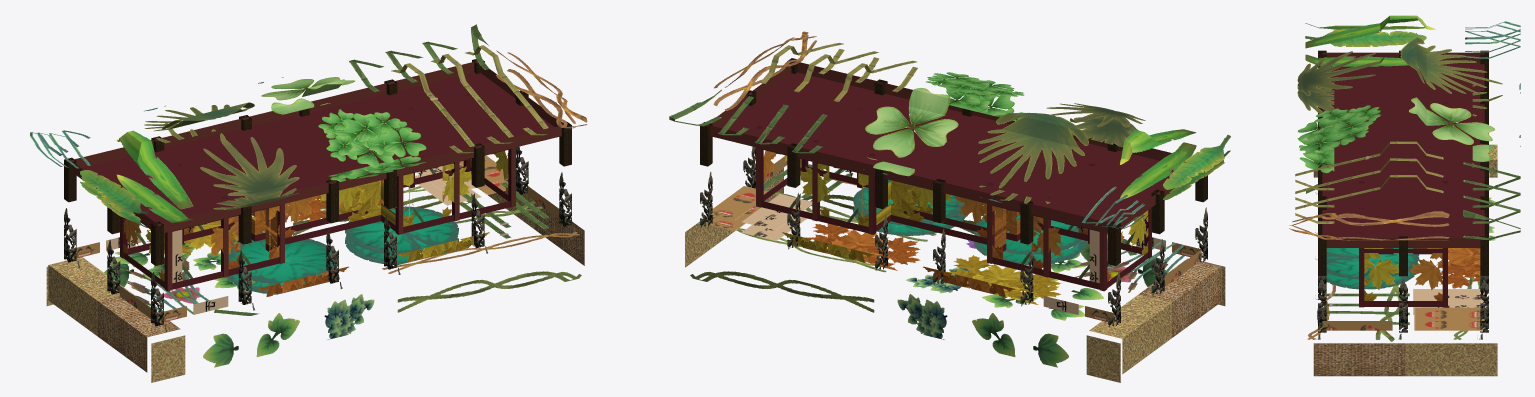
File: korea_house03_pixel.fbx
3 renders of one model, left to right at view 1: azimuth 30°, elevation 25°; view 2: azimuth 150°, elevation 25°; view 3: azimuth 270°, elevation 25°, orthographic. The views are drawn at different scales.
Visible parts, largest first — view 1: korea_house03_pixel; view 2: korea_house03_pixel; view 3: korea_house03_pixel.
Boxes of the visible parts, x1,y1,x2,y2 form: korea_house03_pixel: (30,24,587,382); korea_house03_pixel: (669,31,1230,382); korea_house03_pixel: (1289,15,1520,376).
Bounding box in the file's own units: 118 × 46.5 × 53.42.
